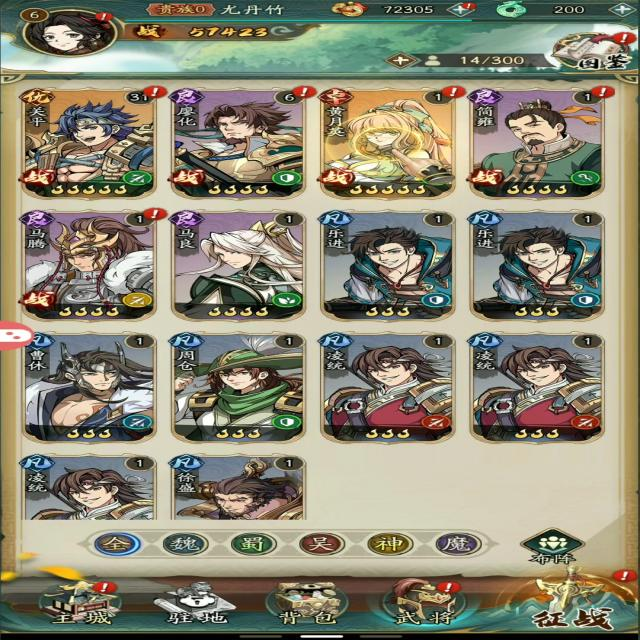hint-reddot: (607, 567, 640, 584), (140, 206, 173, 222), (430, 581, 465, 596), (585, 86, 619, 100), (439, 86, 468, 101), (290, 86, 320, 100), (612, 31, 639, 46), (90, 581, 118, 595), (141, 86, 168, 100), (88, 10, 117, 22), (458, 4, 476, 11)
navigation-bag: (256, 575, 364, 625)
navigation-fight: (498, 567, 638, 633)
navigation-hero: (382, 573, 474, 627)
navigation-main: (30, 576, 133, 625)
navigation-myHeroes: (312, 327, 460, 446), (463, 328, 608, 446), (164, 328, 307, 446), (167, 86, 308, 202), (317, 88, 461, 200), (20, 86, 160, 201), (469, 87, 610, 201), (321, 209, 458, 326), (468, 208, 606, 323), (166, 213, 306, 326), (18, 214, 157, 325), (23, 332, 159, 443), (164, 453, 308, 521), (20, 455, 159, 521)
navigation-role: (15, 2, 125, 58)
navigation-station-off: (149, 578, 245, 626)
operation-HeroAddBag: (378, 50, 447, 70)
operation-Vip: (136, 1, 229, 17)
operation-camp: (364, 533, 419, 560), (225, 532, 280, 558), (428, 534, 482, 560), (294, 534, 348, 560), (95, 534, 146, 560), (163, 534, 212, 559)
operation-deployment: (516, 527, 588, 568)
operation-gallery: (546, 27, 636, 72)
